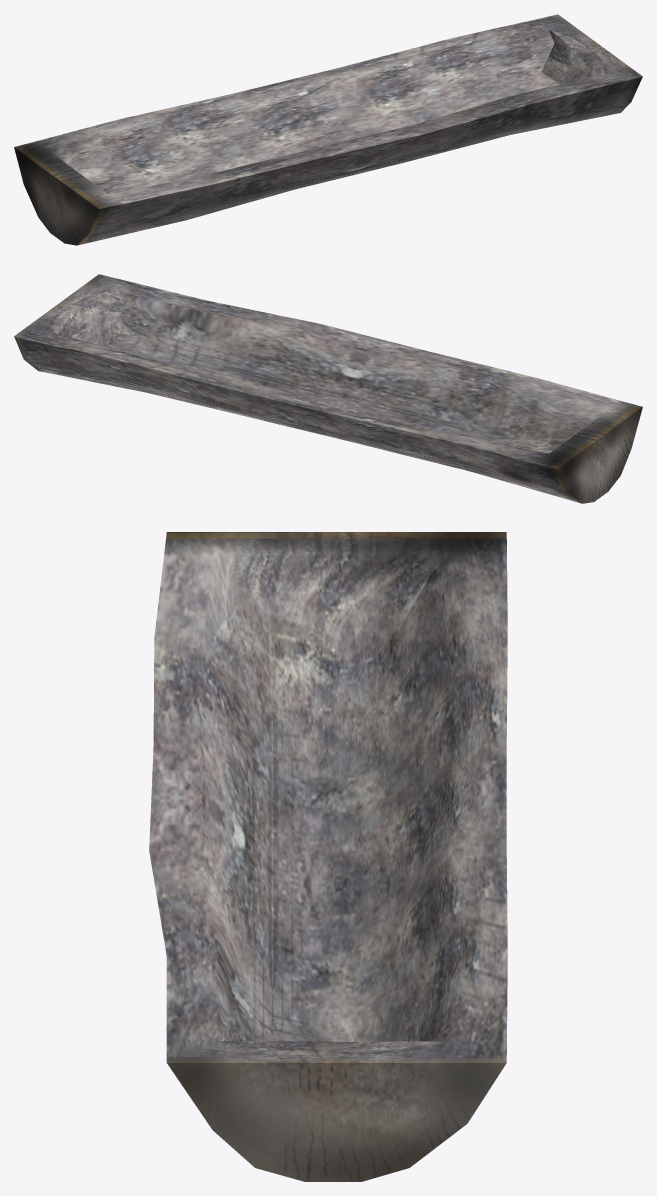
File: PigTrough.FBX
3 renders of one model, top to bottom at view 1: azimuth 30°, elevation 25°; view 2: azimuth 150°, elevation 25°; view 3: azimuth 270°, elevation 25°, orthographic. The views are drawn at different scales.
Parts seen in each view (by area): view 1: Trough; view 2: Trough; view 3: Trough.
Boxes of the visible parts, bbox=[...] form: Trough: bbox=[14, 14, 642, 245]; Trough: bbox=[14, 274, 642, 503]; Trough: bbox=[149, 532, 507, 1181].
Size of the model in its own units: 95.02 by 10.23 by 27.13.
1 material, 1 textured.
